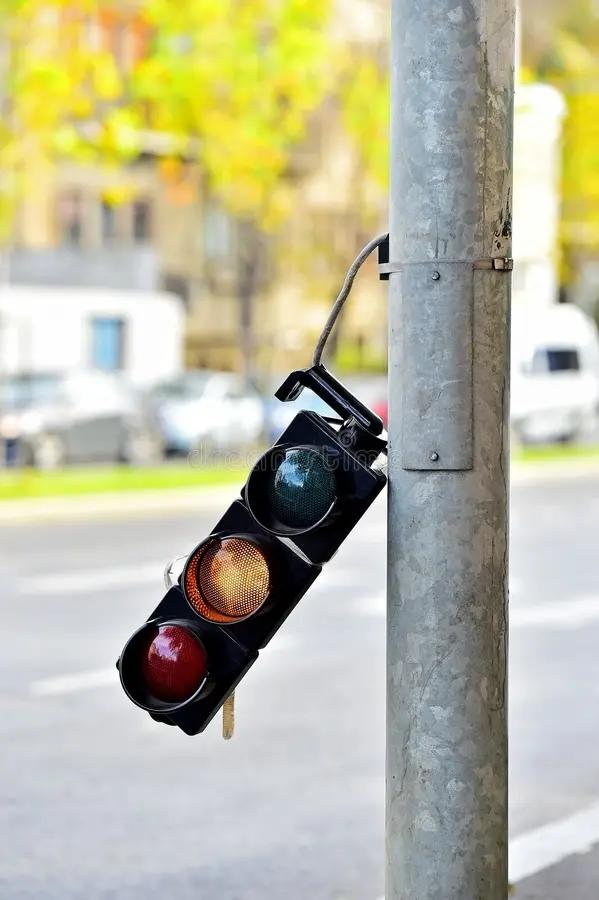traffic light: (118, 234, 387, 735)
